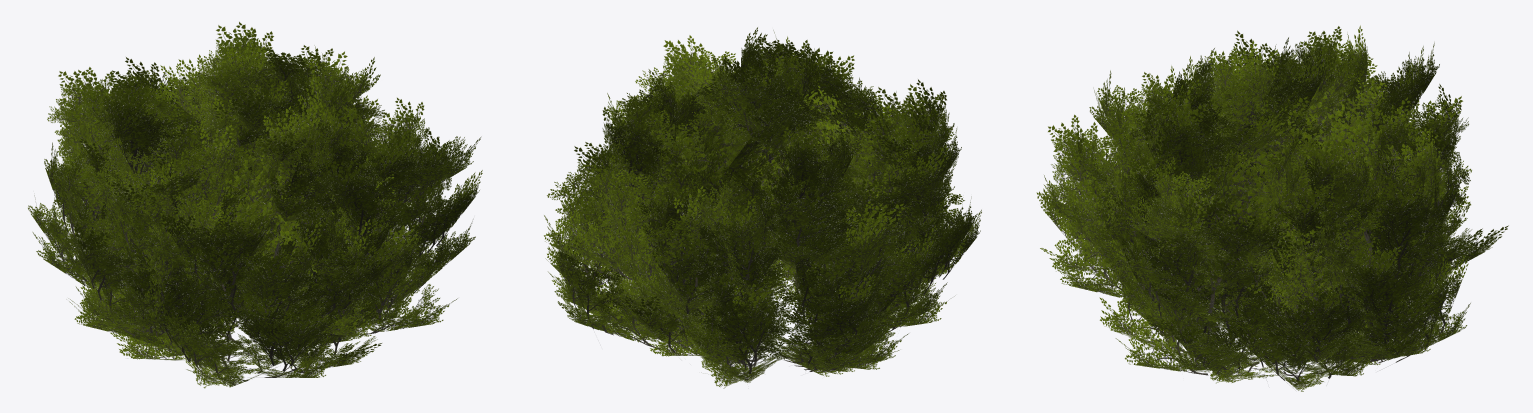
File: tree4.glb
3 views of the same model, side by side, from view 1: azimuth 30°, elevation 25°; view 2: azimuth 150°, elevation 25°; view 3: azimuth 270°, elevation 25° (orthographic). The views are drawn at different scales.
Parts seen in each view (by area): view 1: Object_77; view 2: Object_77; view 3: Object_77.
Part boxes in pixels (x1=…): Object_77: x1=28, y1=22, x2=482, y2=388; Object_77: x1=544, y1=27, x2=981, y2=388; Object_77: x1=1036, y1=25, x2=1508, y2=391.
Size of the model in its own units: 2.16 by 1.73 by 2.29.
1 material, 1 textured.
